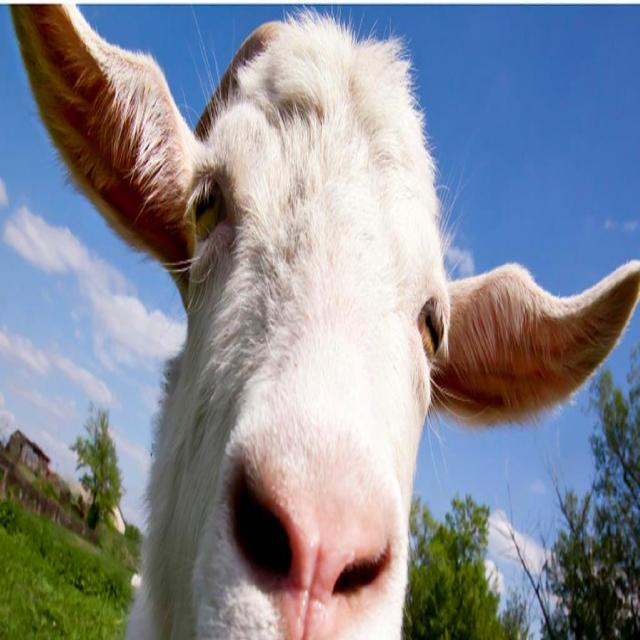goat: (11, 2, 640, 639)
